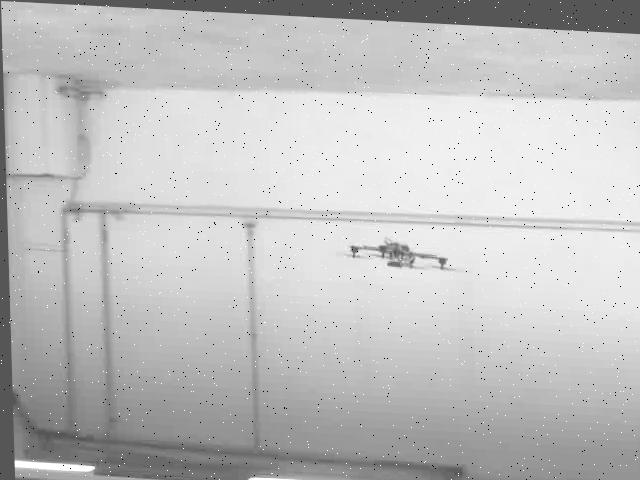drone: (338, 233, 451, 271)
